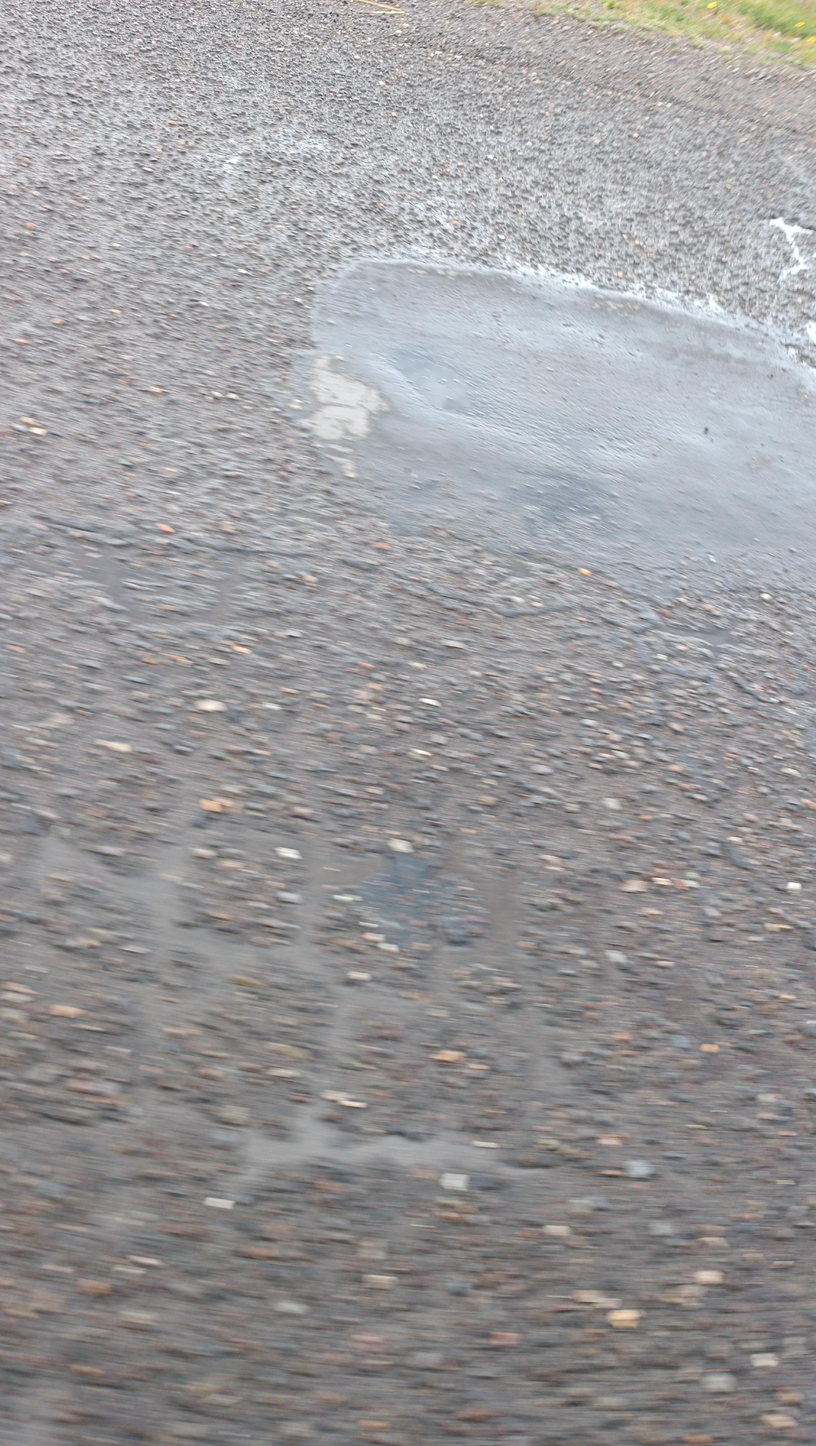PARCHE: (304, 262, 816, 565)
PIEL DE COCODRILO: (0, 693, 816, 1327)
